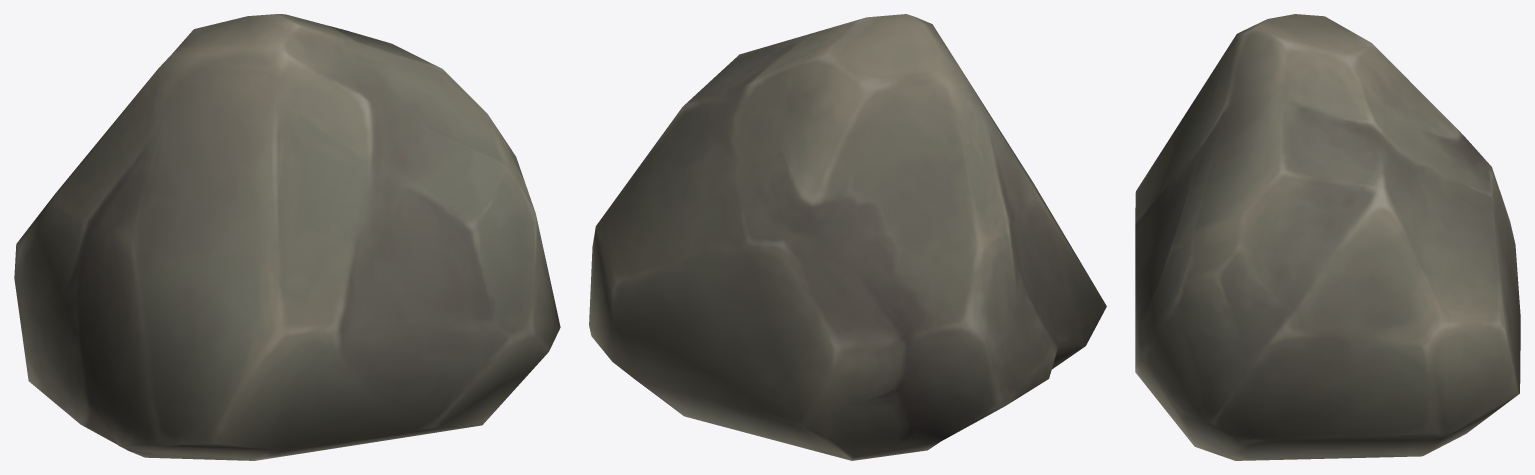
File: SM_Rock_2.FBX
The picture shows the model from 3 angles, left to right: view 1: azimuth 30°, elevation 25°; view 2: azimuth 150°, elevation 25°; view 3: azimuth 270°, elevation 25°; orthographic projection. The views are drawn at different scales.
Visible parts, largest first — view 1: Rock 2; view 2: Rock 2; view 3: Rock 2.
Boxes of the visible parts, x1,y1,x2,y2 form: Rock 2: (14,14,560,460); Rock 2: (589,14,1106,460); Rock 2: (1135,14,1520,460).
Bounding box in the file's own units: 115 × 100 × 99.87.
